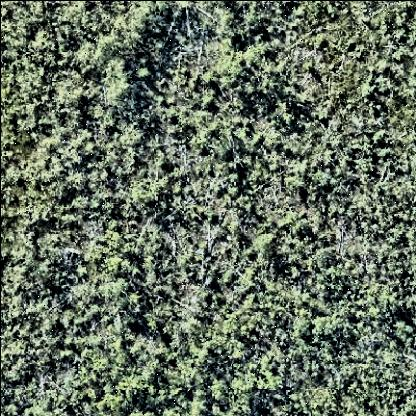tree-top: (124, 297, 143, 321), (286, 174, 308, 194), (126, 291, 145, 313), (134, 65, 154, 84), (125, 314, 144, 332), (120, 242, 140, 259), (58, 349, 77, 365), (200, 96, 217, 112), (236, 156, 252, 172), (166, 110, 180, 124), (4, 405, 18, 416)
